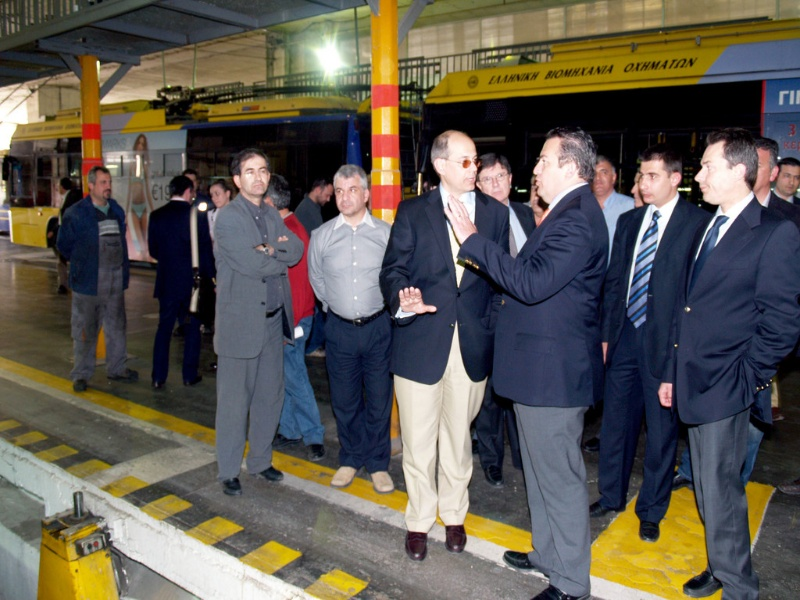person: (475, 122, 629, 597), (659, 129, 796, 600), (387, 119, 499, 560), (208, 149, 303, 493), (313, 152, 399, 496), (50, 167, 142, 392)
